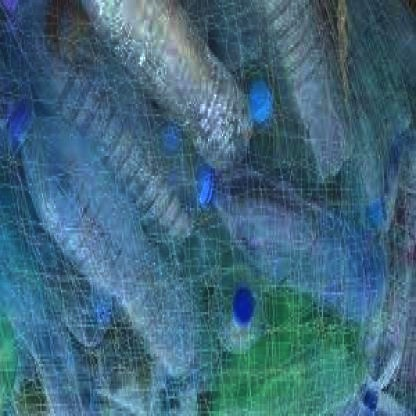pbottle: (8, 101, 196, 369), (44, 25, 200, 240), (92, 3, 254, 174), (204, 166, 374, 319), (214, 260, 262, 349)
